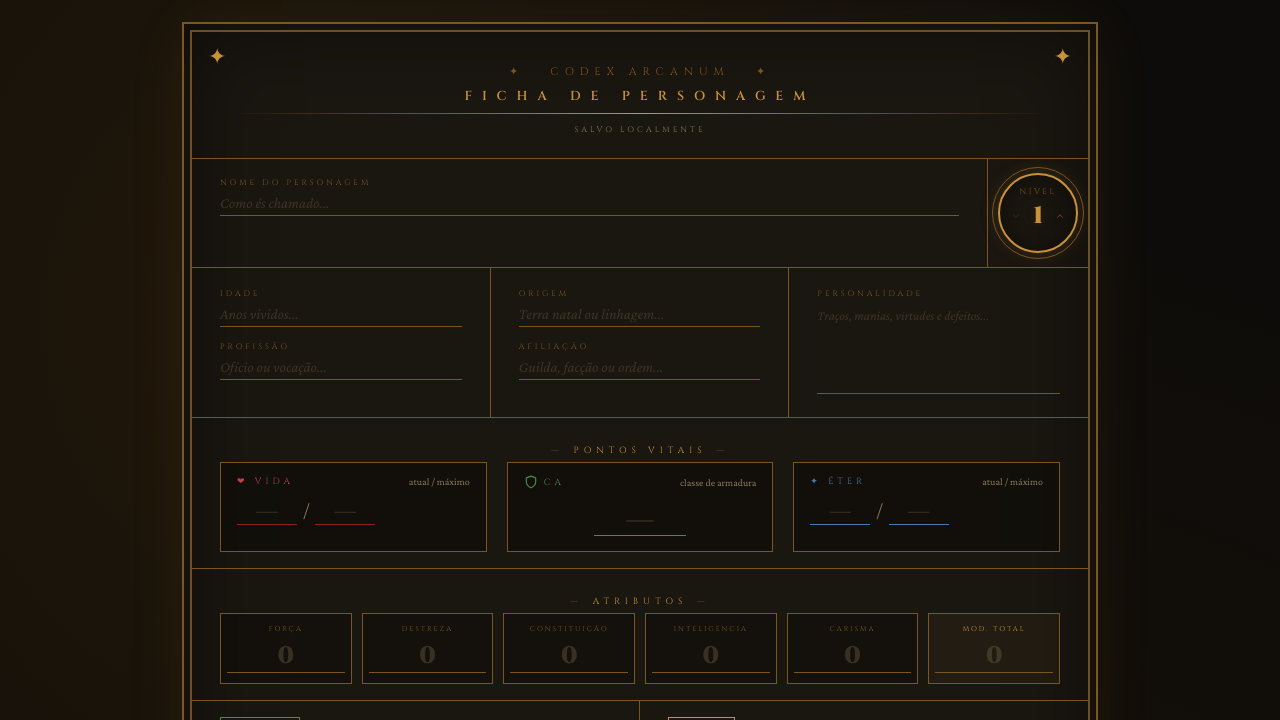
Test: App › increments, decrements, and persists level changes
The image size is (1280, 720).
Expected: the text with class "level-value-display" reads "1", [1033,200,1043,232]
Click the button named "Subir para o nível 2".
click(1060, 216)  # box [1054,210,1066,222]
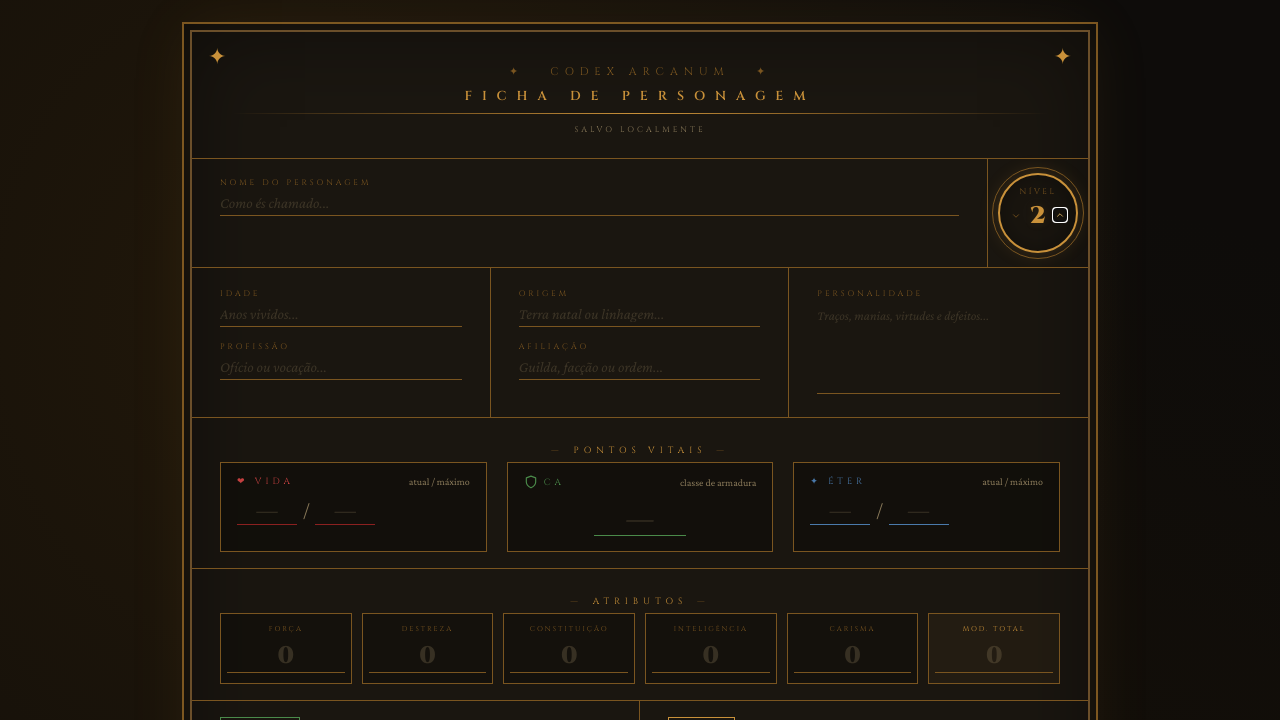
Expected: the text with class "level-value-display" reads "2", [1030,200,1046,232]
Click the button named "Descer para o nível 1".
click(1016, 216)  # box [1010,210,1022,222]
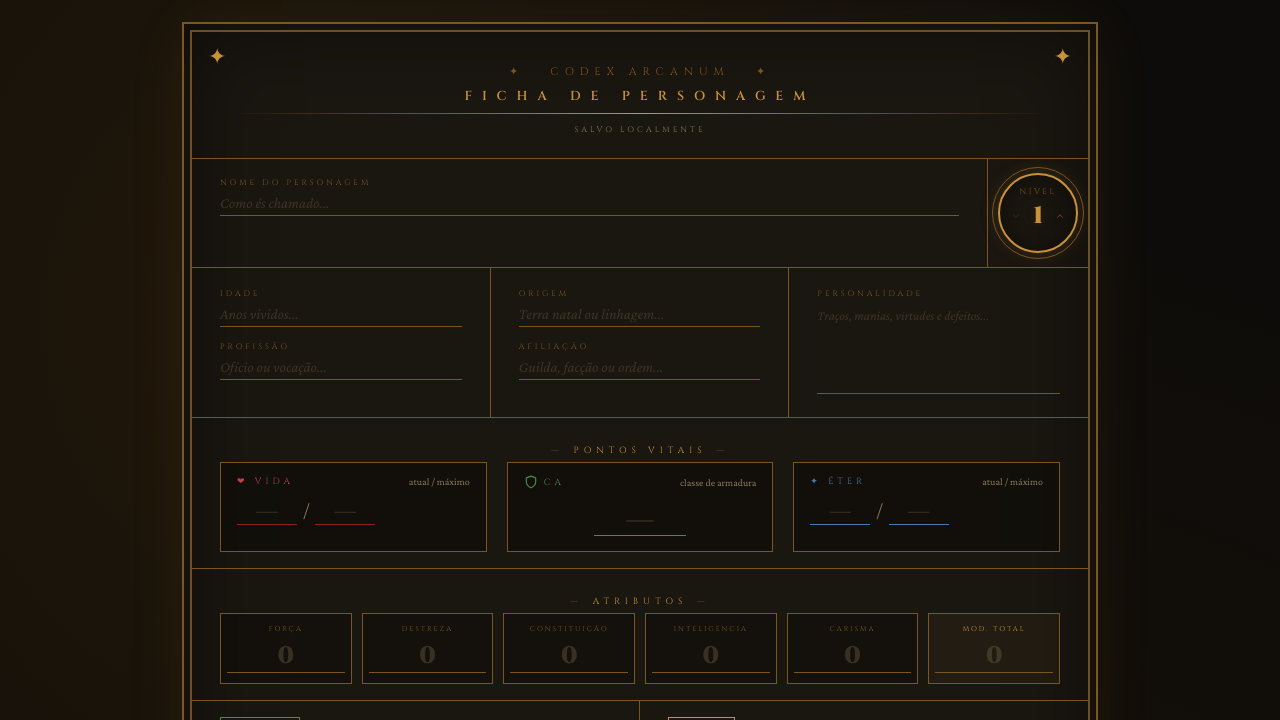
Expected: the text with class "level-value-display" reads "1", [1033,200,1043,232]
